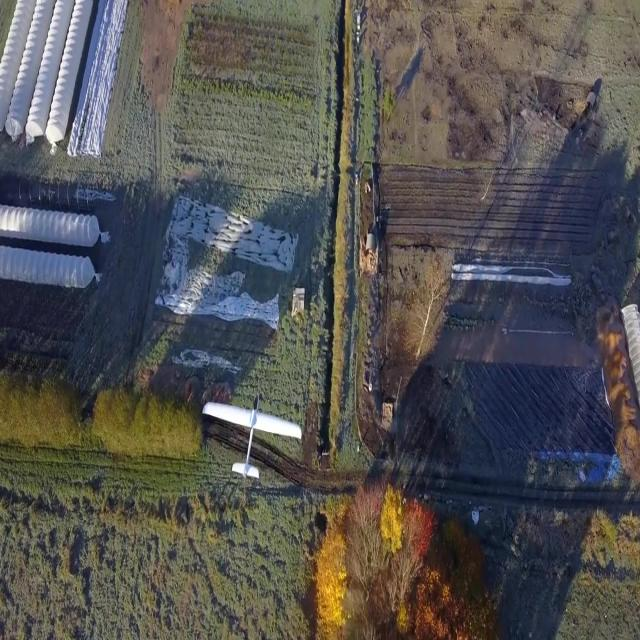iha: (234, 424, 271, 449)
